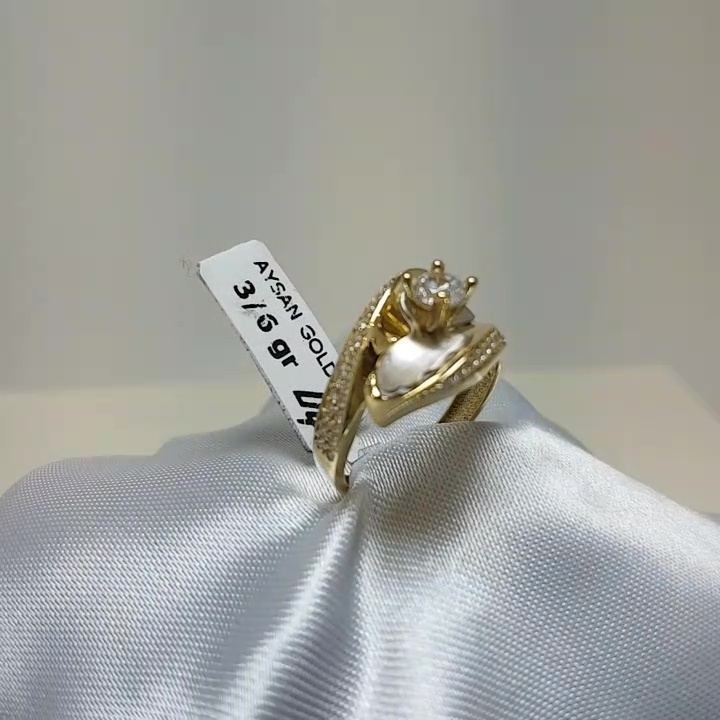Ring 6: (295, 251, 528, 519)
